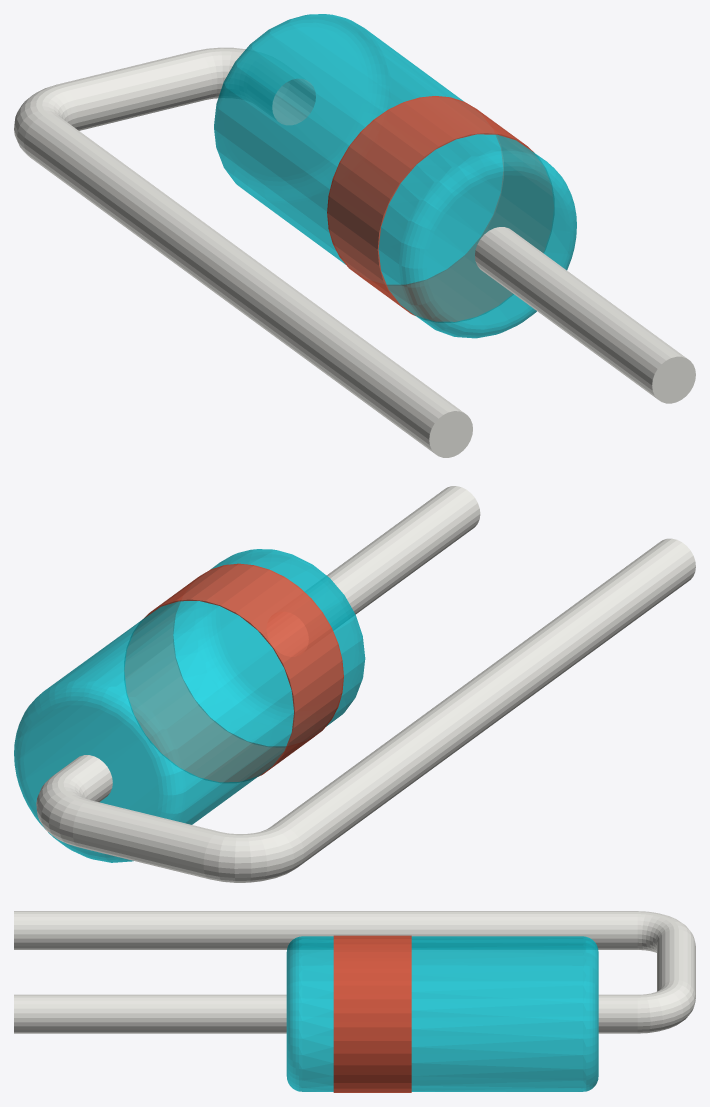
The model's file is D_DO-35_SOD27_P2.54mm_Vertical_AnodeUp.glb.
3 views of the same model, one above another, from view 1: azimuth 30°, elevation 25°; view 2: azimuth 150°, elevation 25°; view 3: azimuth 270°, elevation 25° (orthographic). The views are drawn at different scales.
Visible parts, largest first — view 1: Shape_IndexedFaceSet.008, Shape_IndexedFaceSet.015, Shape_IndexedFaceSet.006, Shape_IndexedFaceSet.010, Shape_IndexedFaceSet.002, Shape_IndexedFaceSet.001, Shape_IndexedFaceSet.003, Shape_IndexedFaceSet.004, Shape_IndexedFaceSet.009, Shape_IndexedFaceSet.013, Shape_IndexedFaceSet.011, Shape_IndexedFaceSet.012 (+3 smaller); view 2: Shape_IndexedFaceSet.008, Shape_IndexedFaceSet.015, Shape_IndexedFaceSet.006, Shape_IndexedFaceSet.001, Shape_IndexedFaceSet.004, Shape_IndexedFaceSet.010, Shape_IndexedFaceSet.009, Shape_IndexedFaceSet.003, Shape_IndexedFaceSet.013, Shape_IndexedFaceSet.002, Shape_IndexedFaceSet.014, Shape_IndexedFaceSet.012 (+1 smaller); view 3: Shape_IndexedFaceSet.008, Shape_IndexedFaceSet.015, Shape_IndexedFaceSet.006, Shape_IndexedFaceSet.001, Shape_IndexedFaceSet.004, Shape_IndexedFaceSet.003, Shape_IndexedFaceSet.009, Shape_IndexedFaceSet.012, Shape_IndexedFaceSet.013, Shape_IndexedFaceSet.011, Shape_IndexedFaceSet.014.
Part boxes in pixels (x1,y1,x2,y2): Shape_IndexedFaceSet.008: (216,15,502,284); Shape_IndexedFaceSet.015: (24,114,463,453); Shape_IndexedFaceSet.006: (327,96,553,321); Shape_IndexedFaceSet.010: (224,27,363,176); Shape_IndexedFaceSet.002: (426,175,566,325); Shape_IndexedFaceSet.001: (475,227,685,398); Shape_IndexedFaceSet.003: (399,149,576,338); Shape_IndexedFaceSet.004: (378,134,573,336); Shape_IndexedFaceSet.009: (214,14,390,203); Shape_IndexedFaceSet.013: (60,51,212,130); Shape_IndexedFaceSet.011: (247,60,315,124); Shape_IndexedFaceSet.012: (196,47,289,104); Shape_IndexedFaceSet.008: (17,601,293,861); Shape_IndexedFaceSet.015: (271,538,695,865); Shape_IndexedFaceSet.006: (124,563,343,781); Shape_IndexedFaceSet.001: (306,486,480,629); Shape_IndexedFaceSet.004: (173,550,362,745); Shape_IndexedFaceSet.010: (23,705,159,815); Shape_IndexedFaceSet.009: (14,679,186,862); Shape_IndexedFaceSet.003: (194,549,365,731); Shape_IndexedFaceSet.013: (73,800,219,878); Shape_IndexedFaceSet.002: (220,562,355,705); Shape_IndexedFaceSet.014: (203,825,303,882); Shape_IndexedFaceSet.012: (36,773,89,846); Shape_IndexedFaceSet.008: (411,936,582,1091); Shape_IndexedFaceSet.015: (14,911,637,949); Shape_IndexedFaceSet.006: (333,935,411,1092); Shape_IndexedFaceSet.001: (14,994,286,1033); Shape_IndexedFaceSet.004: (302,936,333,1091); Shape_IndexedFaceSet.003: (286,936,302,1091); Shape_IndexedFaceSet.009: (583,936,598,1091); Shape_IndexedFaceSet.012: (637,980,695,1033); Shape_IndexedFaceSet.013: (657,929,695,995); Shape_IndexedFaceSet.011: (598,994,637,1033); Shape_IndexedFaceSet.014: (637,911,694,952).
Bounding box in the file's own units: 1.49 × 0.7945 × 3.44.
